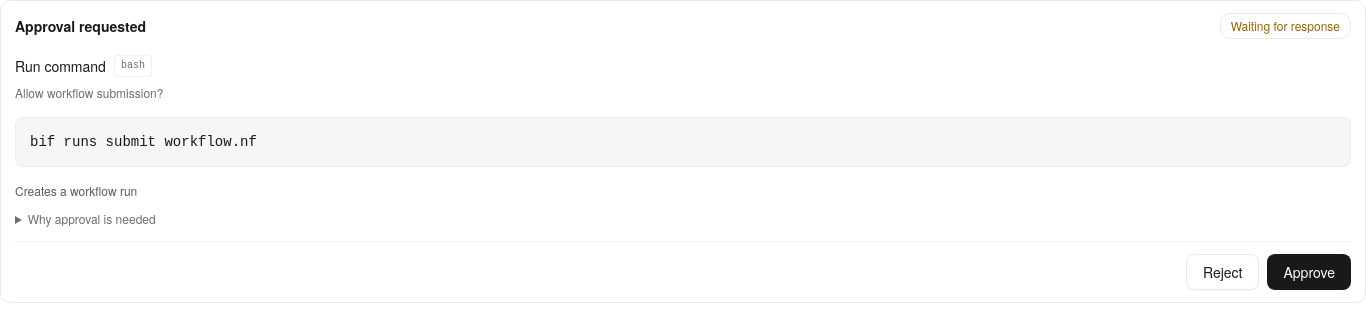
Test: AgentInteractionCard › submits approval once and disables both actions while pending
Check: the text "Allow workflow submission?" is shown, box [15,84,163,101]
Check: the text "bif runs submit workflow.nf" is shown, box [15,117,1351,167]
Double-click the button "Approve" at (1309, 272), box [1268,254,1351,290]
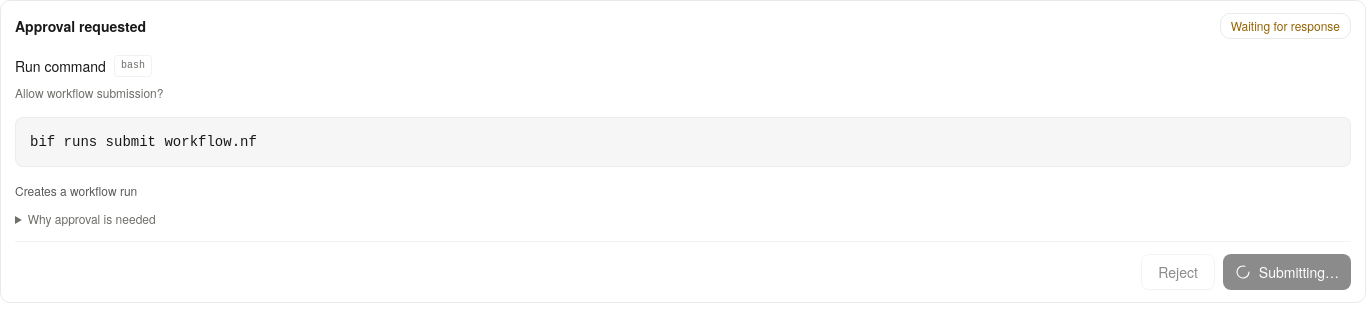
Check: the button "Reject" is disabled, box [1141,254,1215,290]
Check: the button "Submitting…" is disabled, box [1223,254,1351,290]
